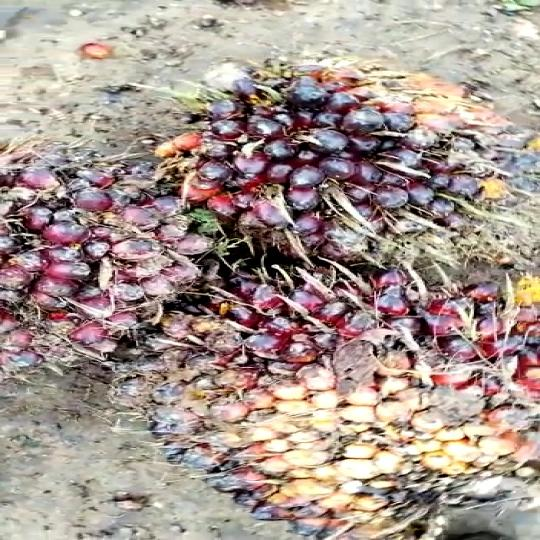kurang masak: (133, 270, 540, 532), (155, 63, 503, 266), (0, 142, 210, 384)
